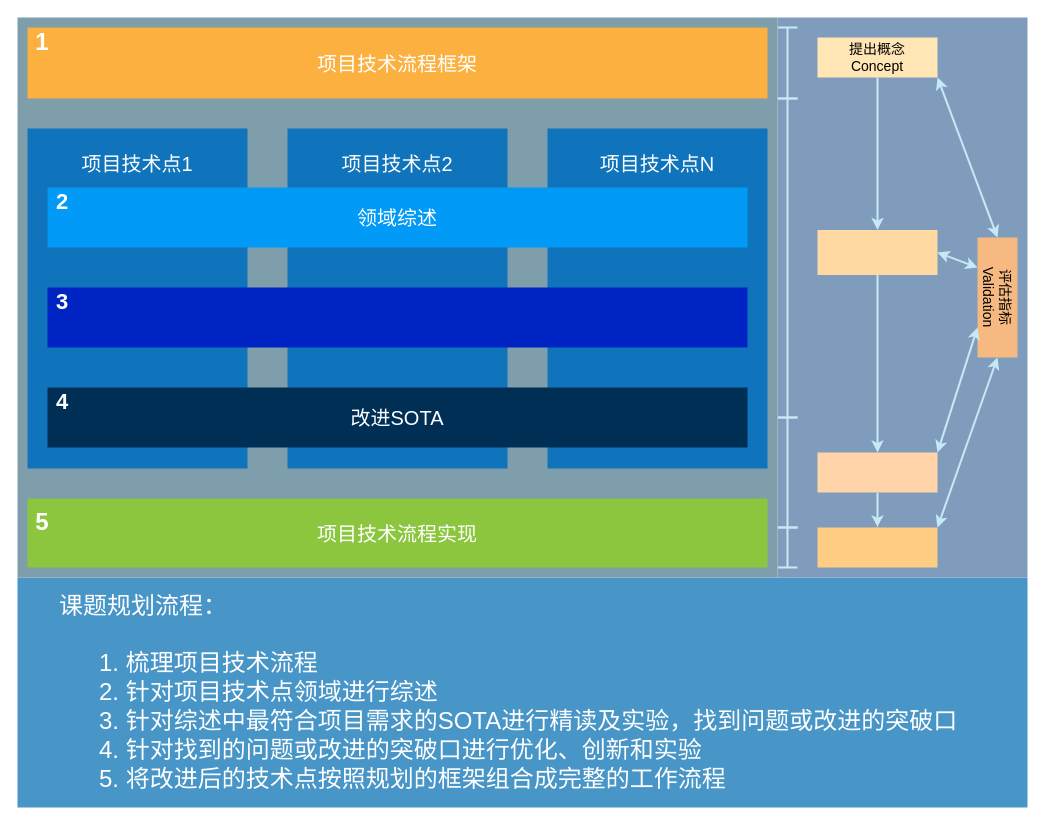
The diagram is 1044 pixels wide and 824 high, and some of its shapes have lost their labels. Here are the shapes that lost their labels. From the top down, the box of each, then its label:
(817, 230, 937, 274): 制定计划 Plan
(47, 287, 747, 347): 详解SOTA
(817, 452, 937, 492): 进行开发 Development
(817, 527, 937, 567): 完成部署 Run
